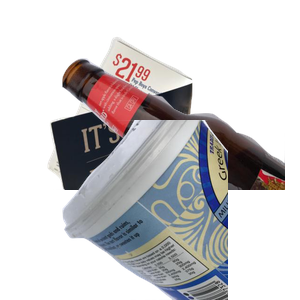glass: (60, 56, 300, 236)
paper: (45, 34, 230, 214)
plastic: (60, 120, 300, 300)
trash: (84, 133, 292, 300)
